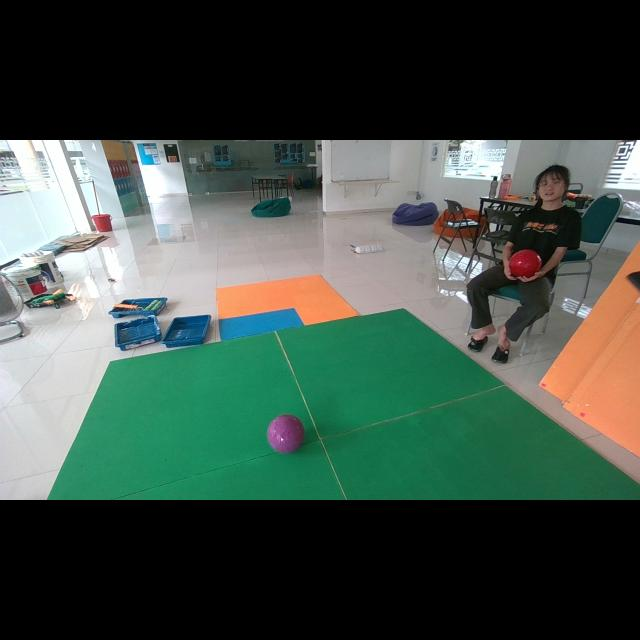P: (268, 414, 305, 452)
R: (509, 249, 542, 277)
